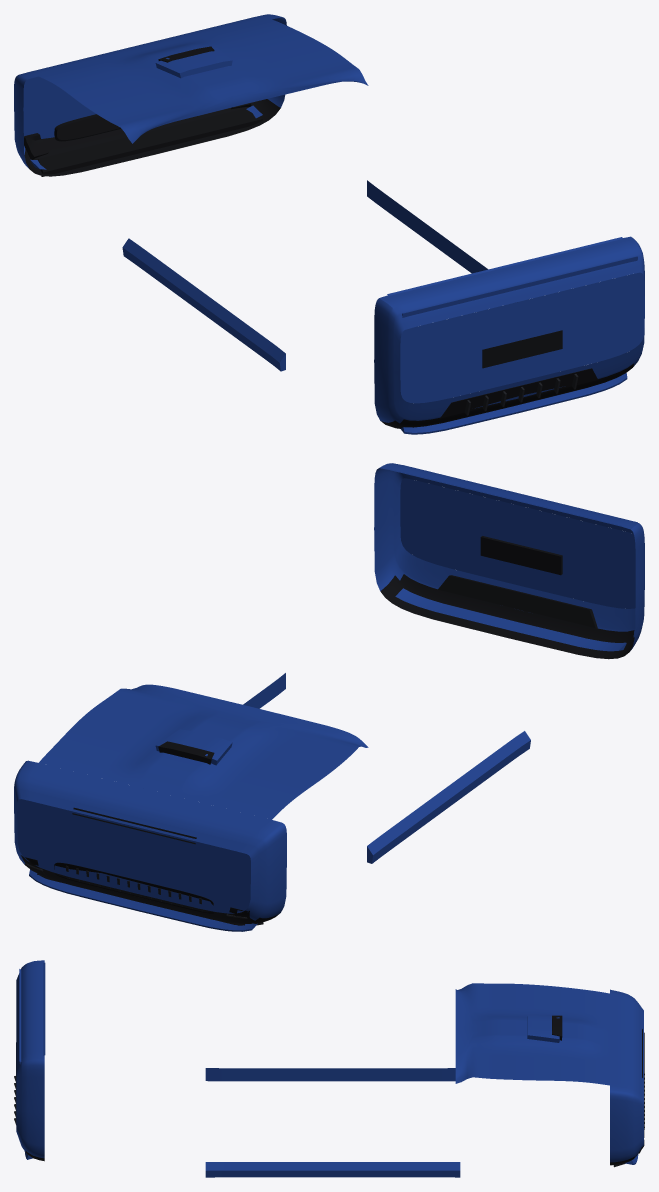
Rendered from kit_street.glb.
3 views of the same model, one above another, from view 1: azimuth 30°, elevation 25°; view 2: azimuth 150°, elevation 25°; view 3: azimuth 270°, elevation 25° (orthographic). The views are drawn at different scales.
Parts seen in each view (by area): view 1: bumper_front__street, bumper_rear__street, hood__street, skirts__street, spoiler__street; view 2: bumper_front__street, hood__street, bumper_rear__street, skirts__street; view 3: hood__street, skirts__street, bumper_front__street, bumper_rear__street, spoiler__street.
Part boxes in pixels (<box>): bumper_front__street: <box>14,14,644,403</box>; bumper_rear__street: <box>374,236,644,434</box>; hood__street: <box>39,19,368,143</box>; skirts__street: <box>122,180,487,371</box>; spoiler__street: <box>387,237,637,317</box>; bumper_front__street: <box>14,478,635,931</box>; hood__street: <box>39,684,368,819</box>; bumper_rear__street: <box>374,463,644,659</box>; skirts__street: <box>243,673,530,863</box>; hood__street: <box>455,983,609,1085</box>; skirts__street: <box>205,1068,460,1177</box>; bumper_front__street: <box>610,989,644,1167</box>; bumper_rear__street: <box>14,960,44,1161</box>; spoiler__street: <box>19,962,45,1064</box>.
Size of what is drawn, in the model's own units: 1.77 by 0.9537 by 4.55.
